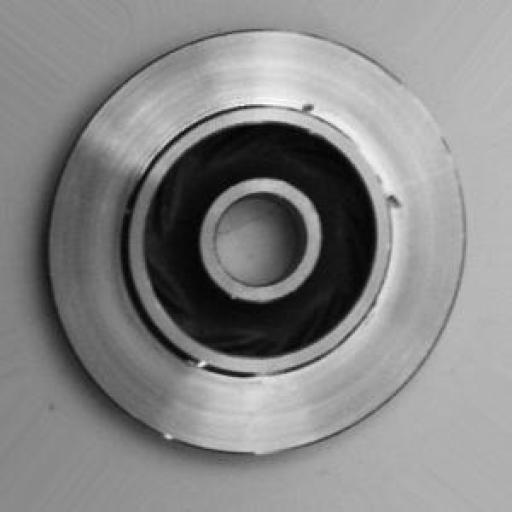defect: (287, 84, 424, 228)
